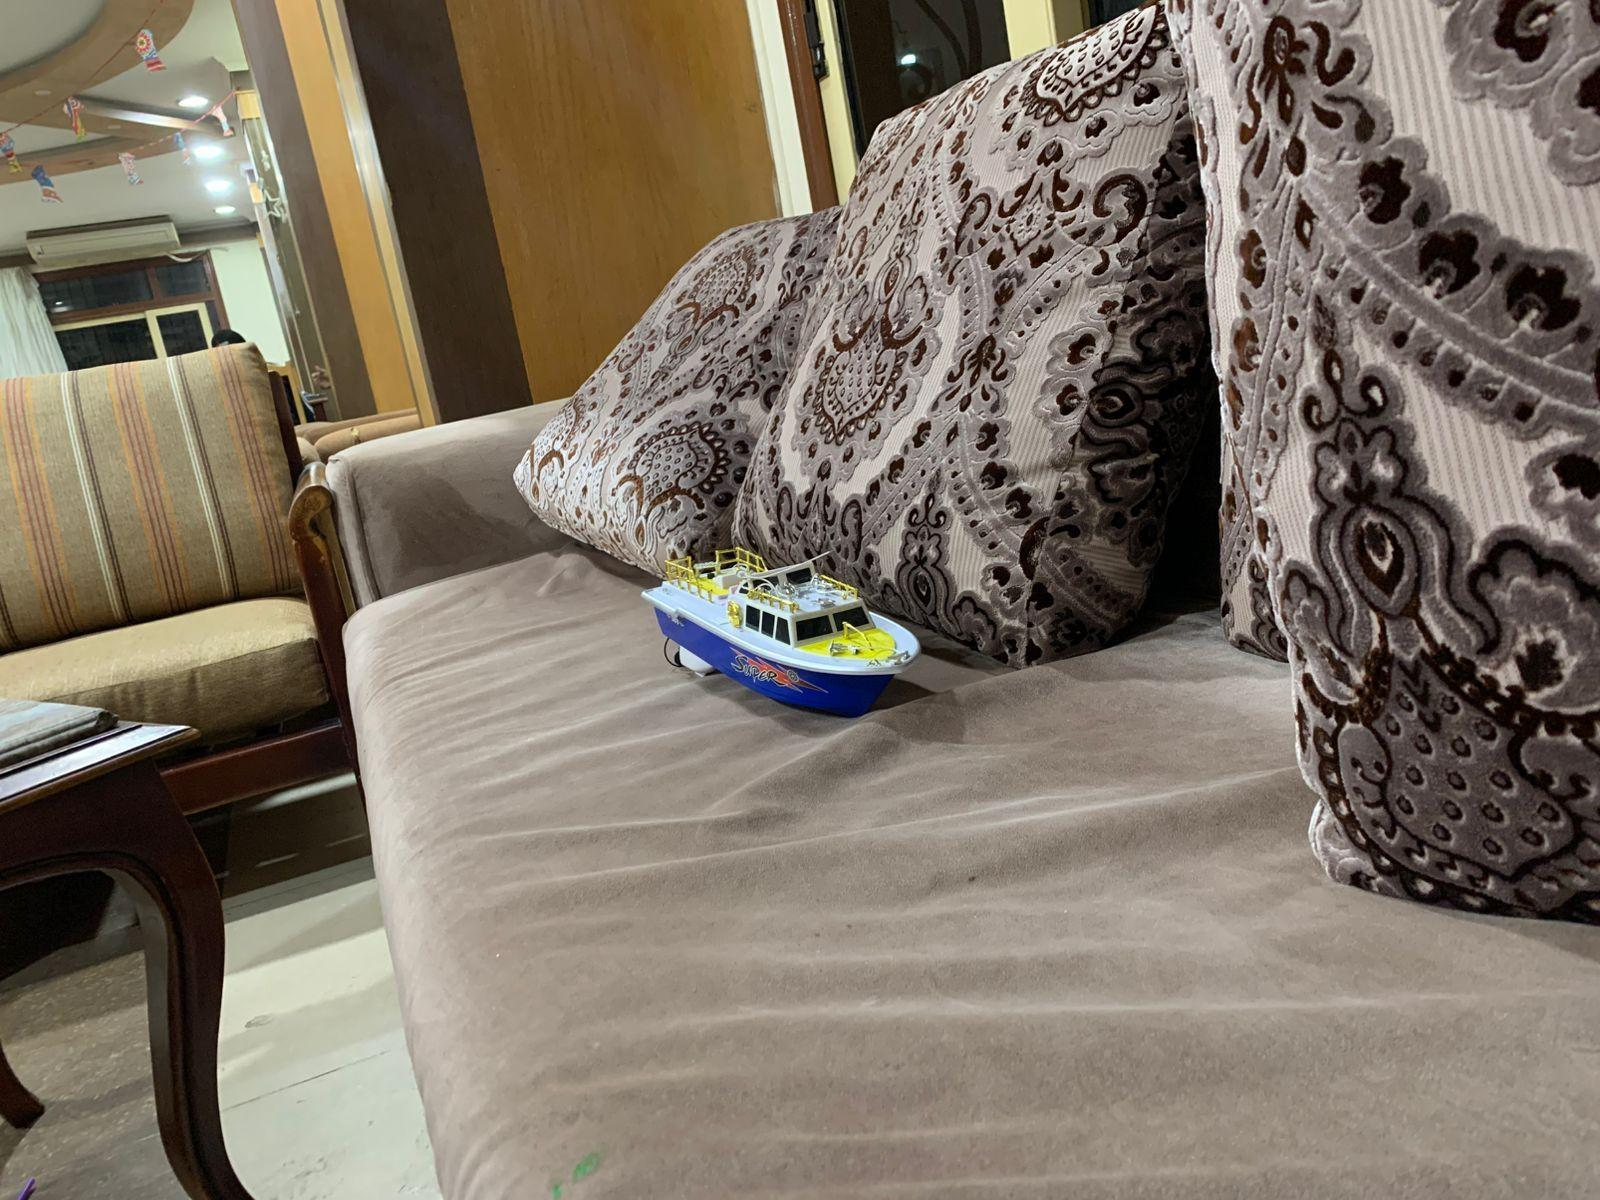Boat: (629, 537, 929, 726)
